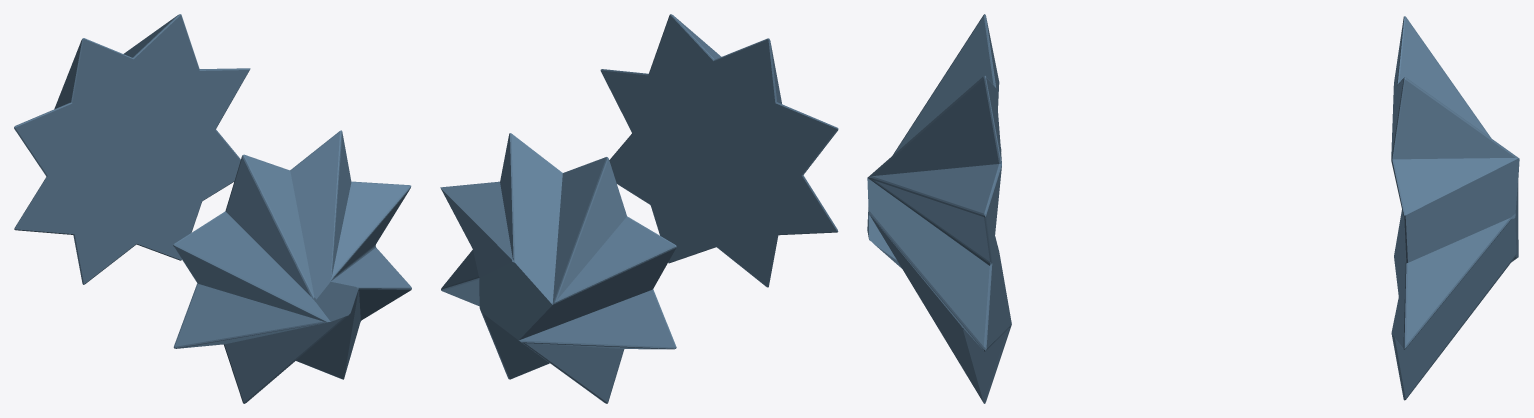
The model's file is Cog 2.fbx.
3 renders of one model, left to right at view 1: azimuth 30°, elevation 25°; view 2: azimuth 150°, elevation 25°; view 3: azimuth 270°, elevation 25°, orthographic. The views are drawn at different scales.
Visible parts, largest first — view 1: Cog 2; view 2: Cog 2; view 3: Cog 2.
Part boxes in pixels (<box>): Cog 2: <box>14,14,411,403</box>; Cog 2: <box>440,14,838,403</box>; Cog 2: <box>867,14,1519,403</box>.
Size of the model in its own units: 141 by 141 by 255.
